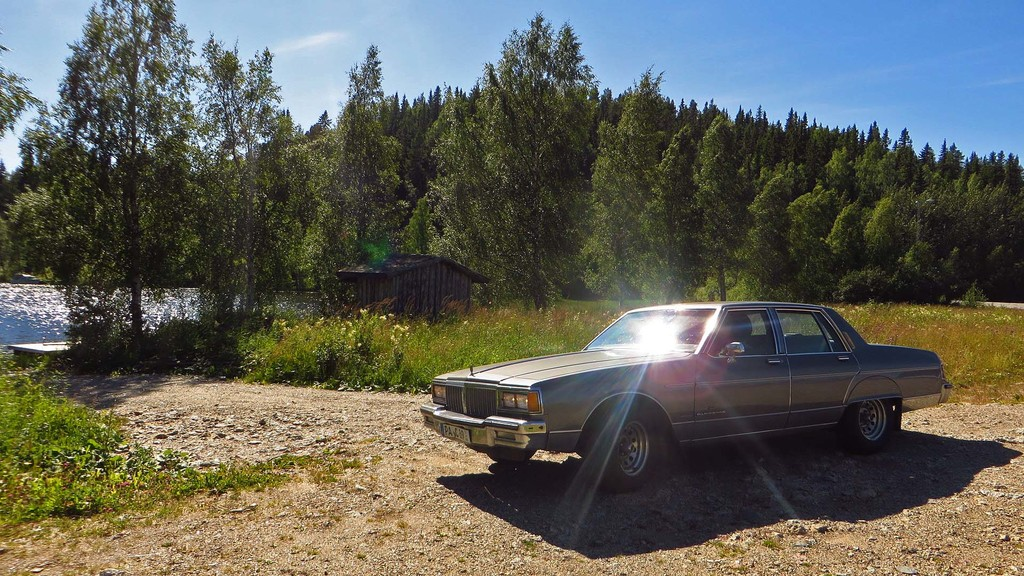cars: (418, 295, 950, 491)
